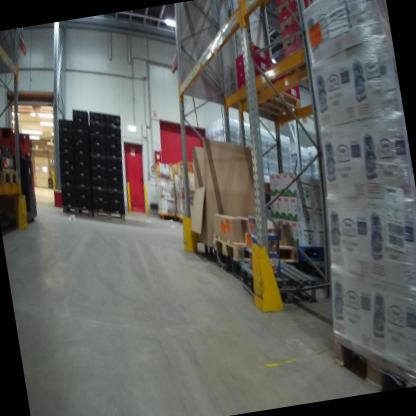pallet: (326, 322, 416, 395), (209, 221, 300, 277), (234, 73, 304, 126), (295, 235, 331, 264), (60, 197, 95, 225), (92, 204, 126, 227), (1, 164, 20, 189), (0, 146, 5, 168), (0, 164, 5, 184)
